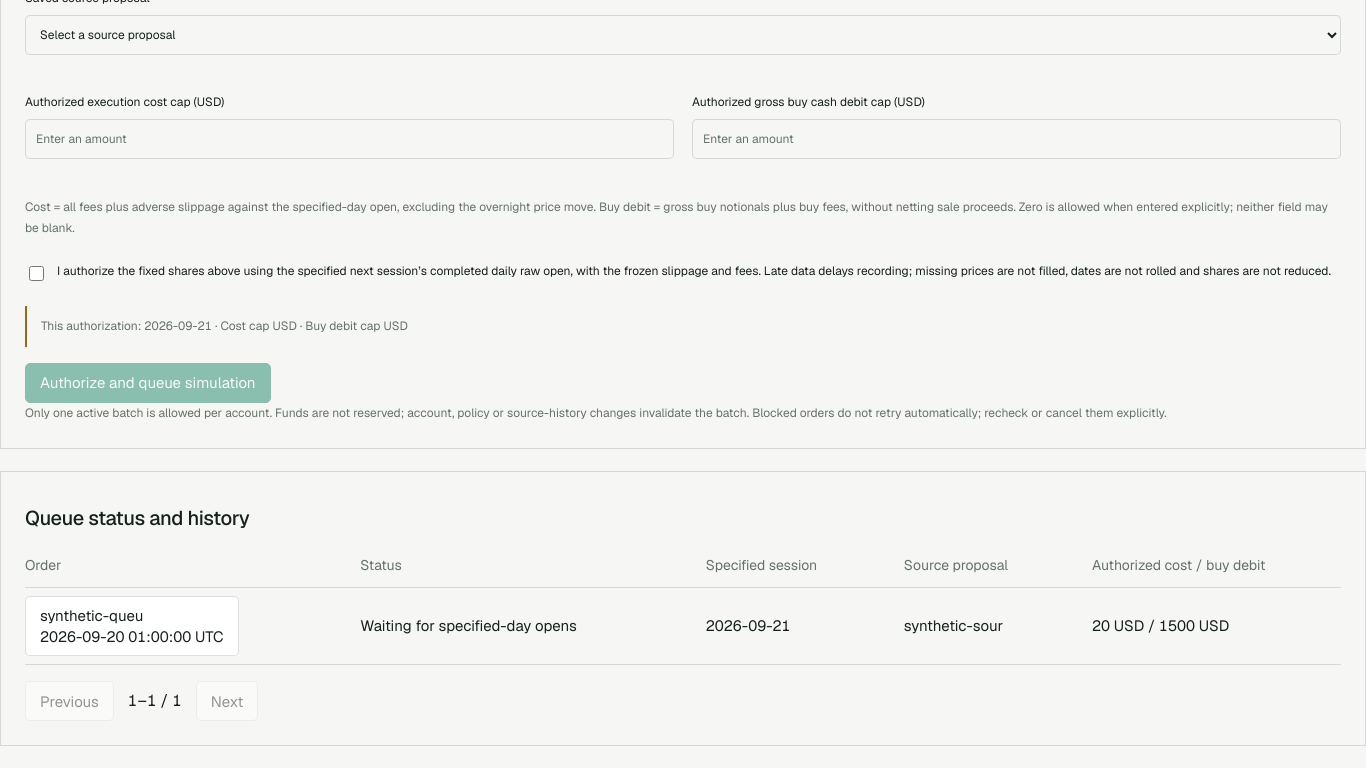
Test: next-open paper queue › keeps missing opens and valuations unavailable without substituting close prices
(page scrolled)
What coordinates should you click on to do the following:
click the button "synthetic-queu2026-09-20 01:00:00 UTC"
I would click on:
 (132, 626)
Its box is [25,596,238,656].
(page scrolled)
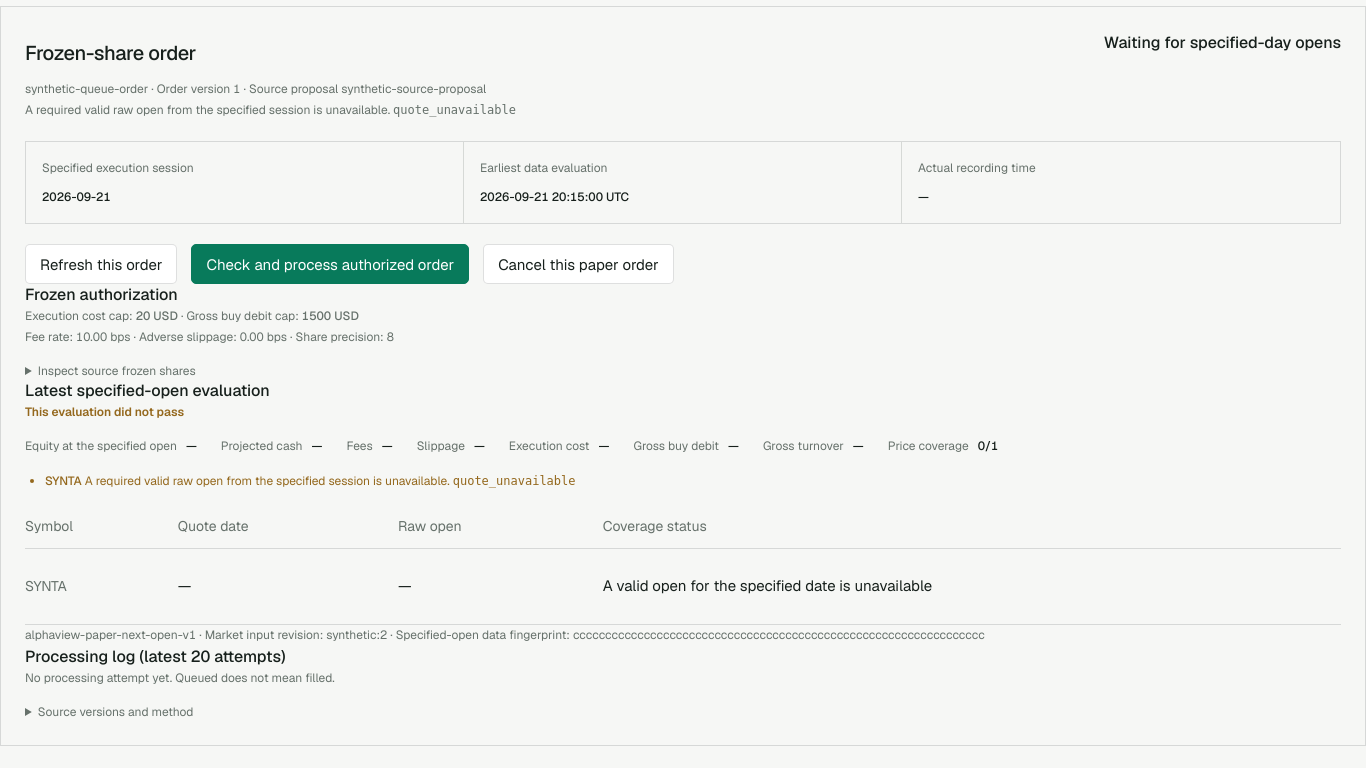
Result: the element named "Paper order details" is shown
Result: the text "—" is shown 2 times at [163,548,383,624]; [383,548,588,624]
Result: the text "A valid open for the specified date is unavailable" is shown at [588,548,1341,624]
